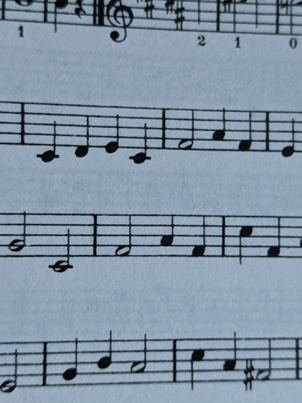A: (219, 328, 240, 392), (157, 207, 178, 262), (209, 105, 229, 155)
B: (93, 325, 116, 392)
D: (69, 100, 94, 161)
E: (101, 103, 124, 158), (276, 107, 299, 161)
F: (258, 211, 284, 264), (234, 103, 257, 158), (187, 211, 209, 263)
G: (57, 331, 82, 395)
HC: (186, 333, 210, 394), (233, 210, 257, 267)
LC: (32, 100, 64, 167), (127, 105, 155, 168)
